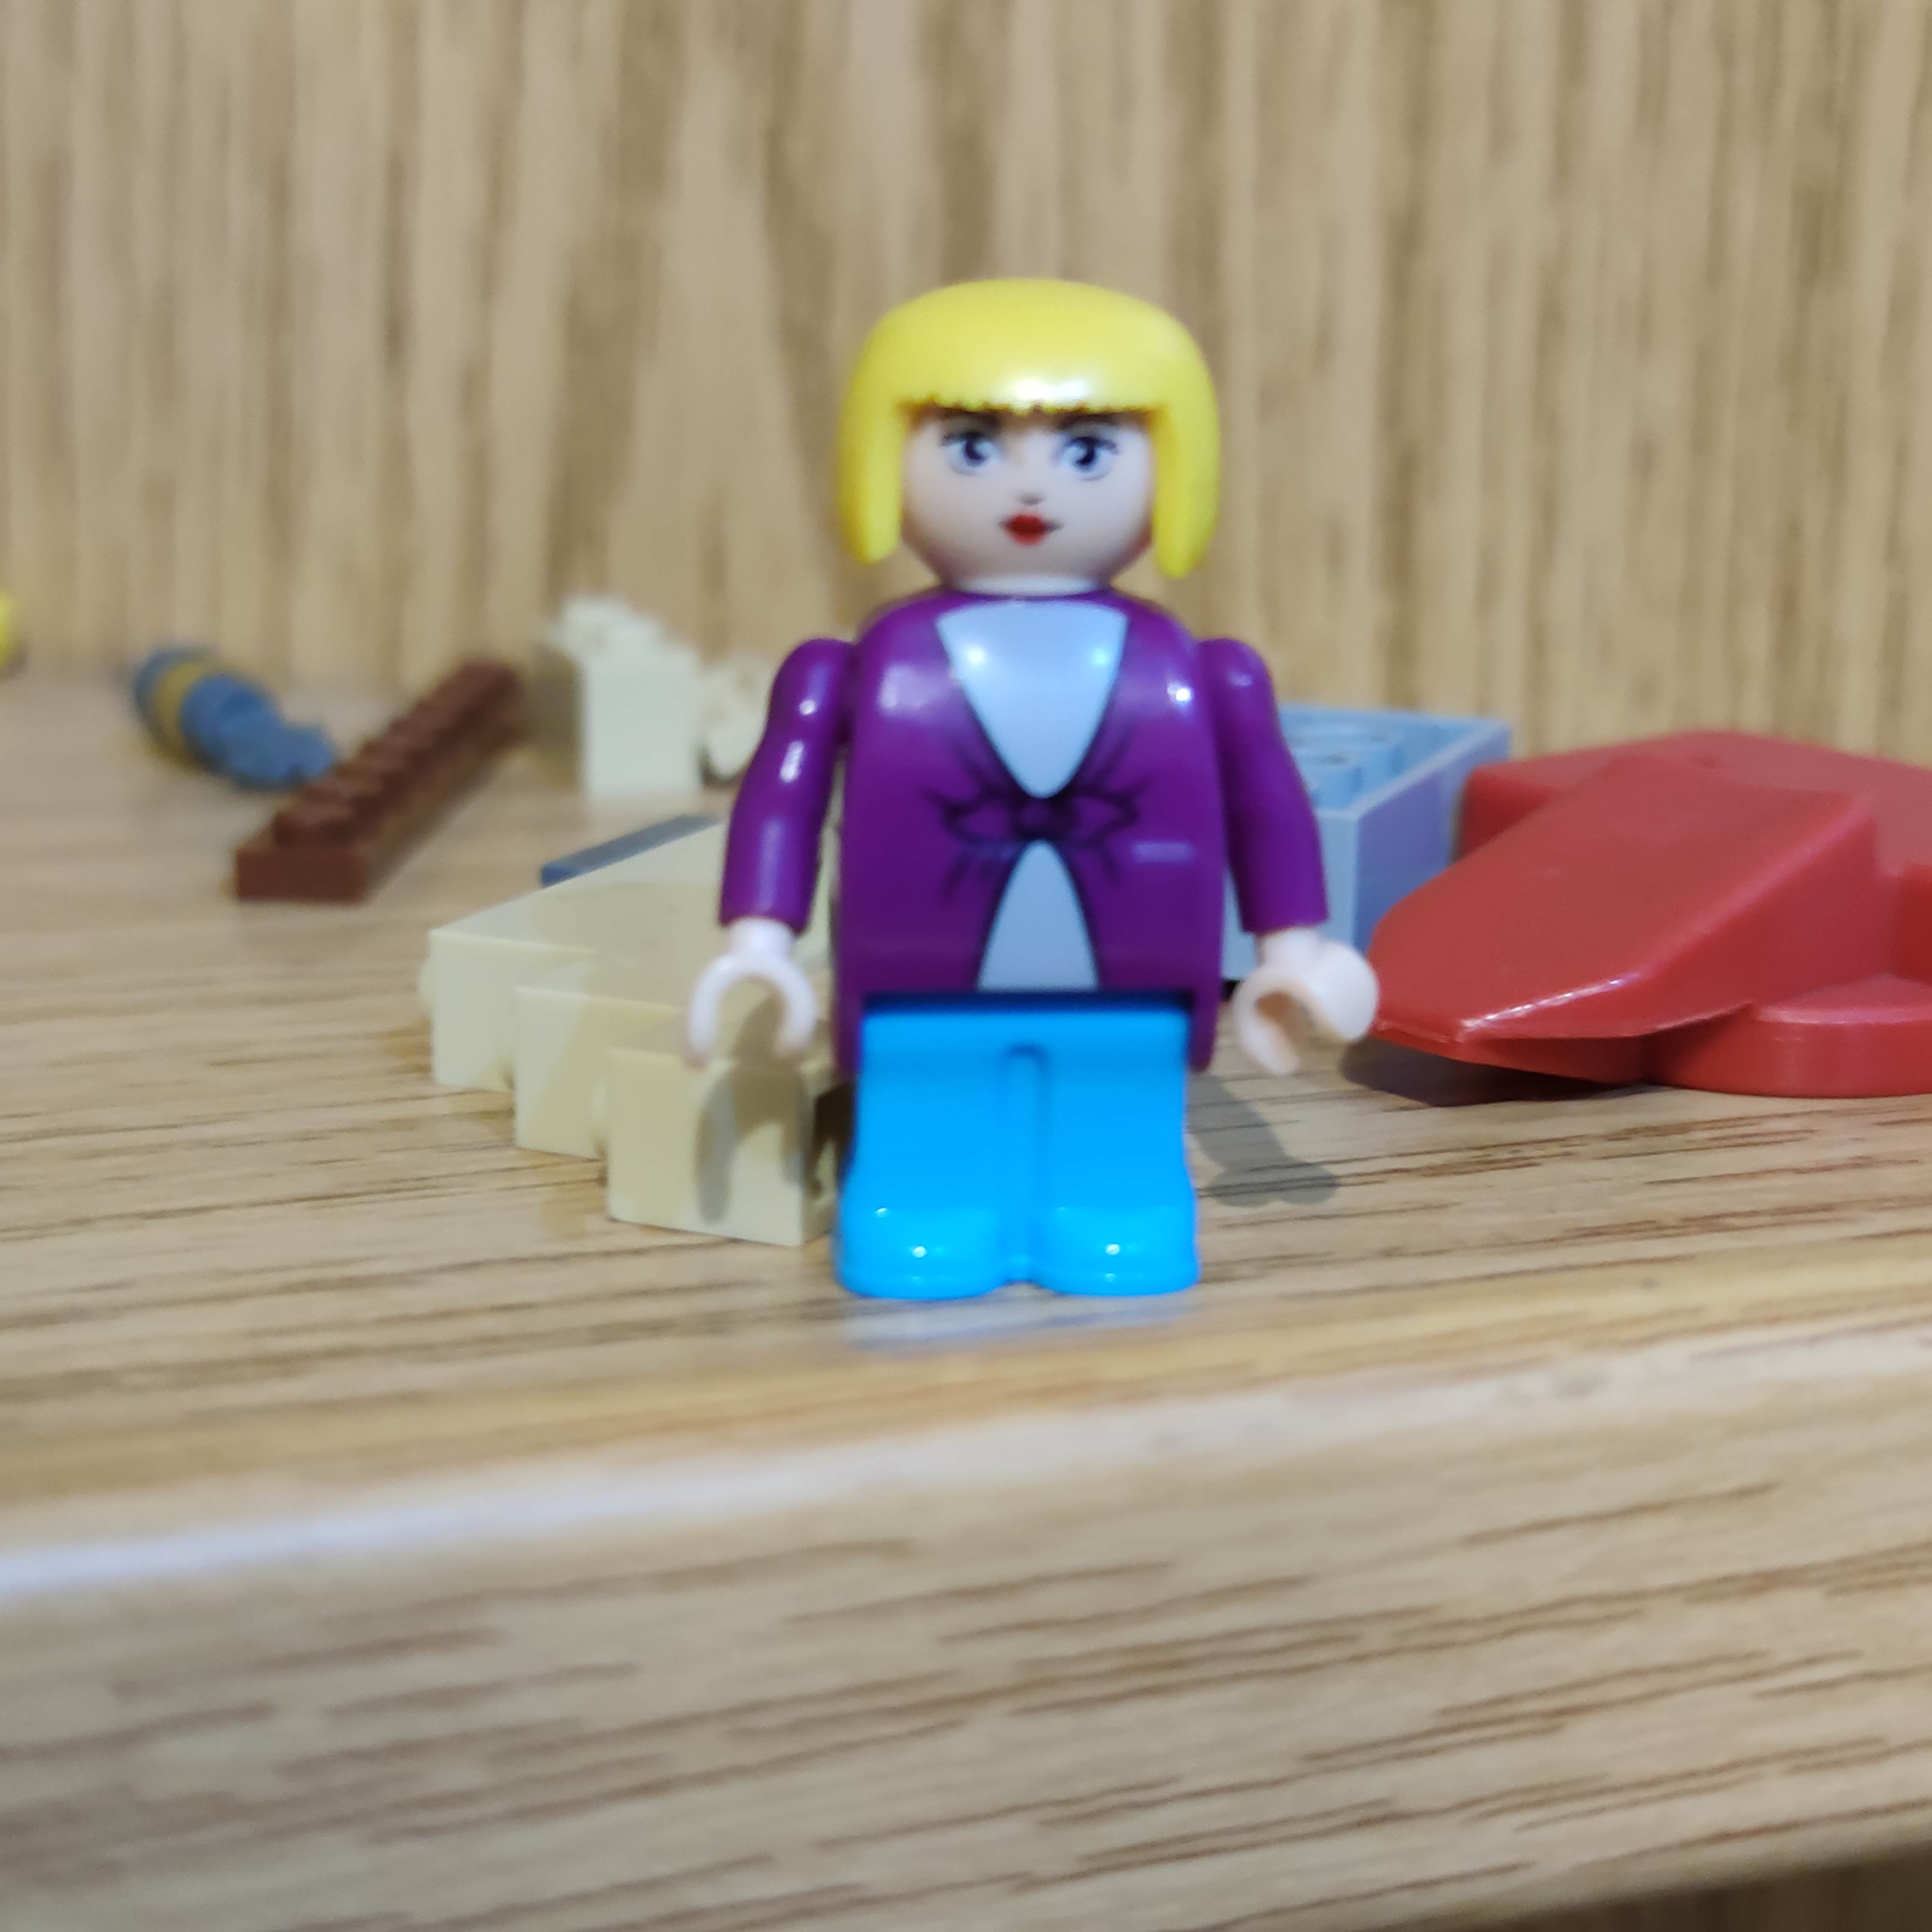lego: (679, 278, 1382, 1341)
